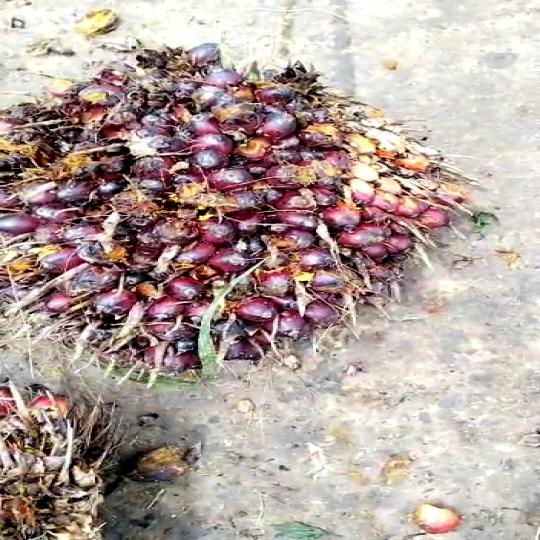masak: (0, 39, 494, 382)
